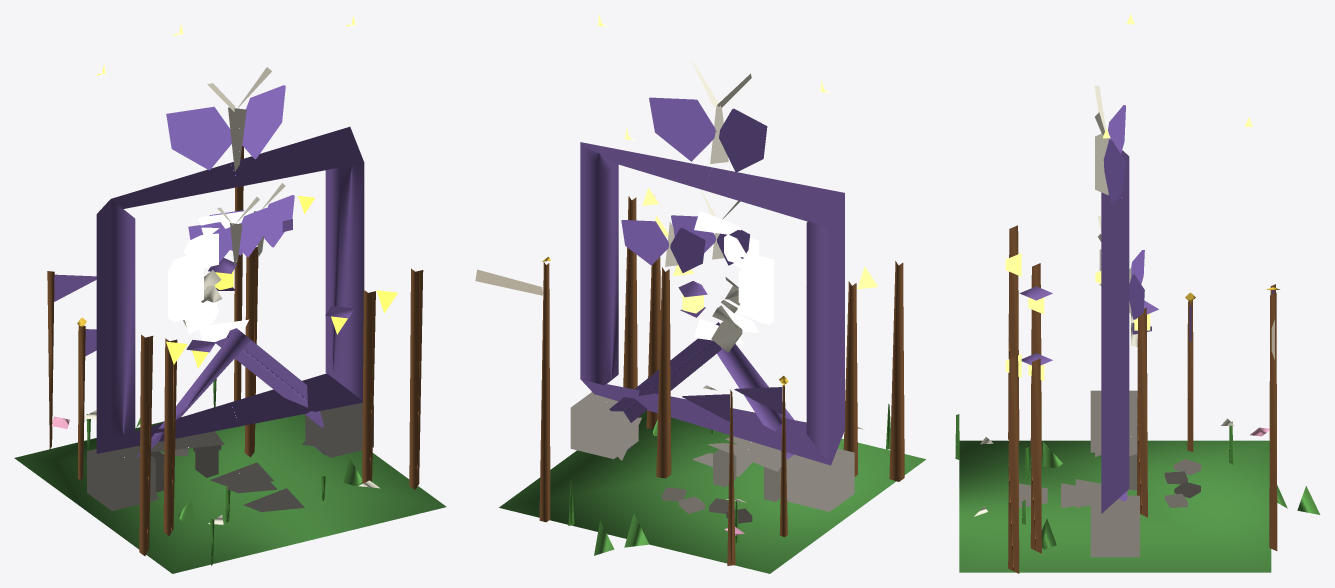
The model's file is moth-moon-garden-blocky_lod2.glb.
The picture shows the model from 3 angles, left to right: view 1: azimuth 30°, elevation 25°; view 2: azimuth 150°, elevation 25°; view 3: azimuth 270°, elevation 25°; orthographic projection.
Visible parts, largest first — view 1: lv3, lv2, lv1; view 2: lv3, lv2, lv1; view 3: lv3, lv1, lv2.
Part boxes in pixels (x1,y1,x2,y2): lv3: (14,14,446,573); lv2: (77,197,379,535); lv1: (151,183,362,522); lv3: (475,14,925,573); lv2: (609,190,864,547); lv1: (621,193,786,523); lv3: (955,14,1320,573); lv1: (1019,250,1201,549); lv2: (974,216,1287,553).
Size of the model in its own units: 1.5 by 2.15 by 1.62.
